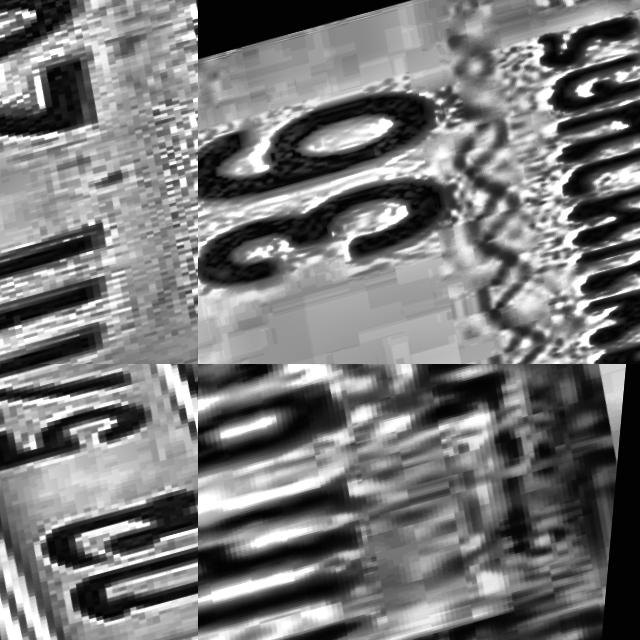license-plate: (198, 0, 640, 364), (198, 364, 640, 640), (0, 0, 198, 364), (0, 364, 198, 640)
